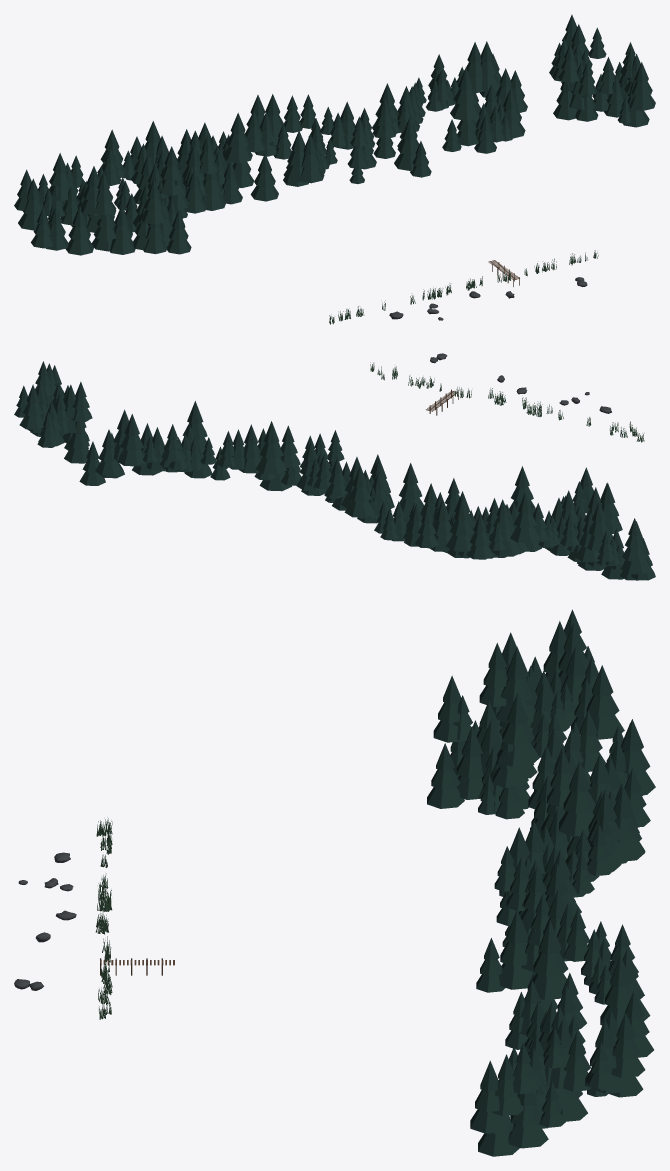
Rendered from galaxy_ferry_scenery.glb.
3 views of the same model, one above another, from view 1: azimuth 30°, elevation 25°; view 2: azimuth 150°, elevation 25°; view 3: azimuth 270°, elevation 25° (orthographic). The views are drawn at different scales.
Visible parts, largest first — view 1: Cone, Cone.510; view 2: Cone, Cone.510, rock; view 3: Cone, Cone.510, rock.
Boxes of the visible parts, x1,y1,x2,y2 form: Cone: (14, 14, 655, 255); Cone.510: (329, 250, 598, 324); Cone: (14, 361, 655, 580); Cone.510: (370, 362, 644, 442); rock: (430, 353, 611, 413); Cone: (427, 609, 655, 1156); Cone.510: (95, 818, 112, 1019); rock: (14, 852, 76, 990).
Size of the model in its own units: 123 by 17.59 by 74.98.
